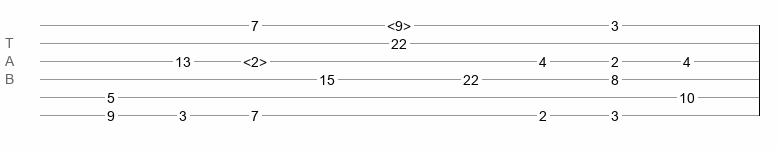10: (679, 90, 695, 100)
13: (175, 54, 191, 64)
15: (319, 72, 335, 82)
2: (539, 108, 547, 118), (611, 54, 619, 64)
22: (391, 36, 407, 46), (463, 72, 479, 82)
3: (179, 108, 187, 118), (611, 18, 619, 28), (611, 108, 619, 118)
4: (539, 54, 547, 64), (683, 54, 691, 64)
5: (107, 90, 115, 100)
7: (251, 18, 259, 28), (251, 108, 259, 118)
8: (611, 72, 619, 82)
9: (107, 108, 115, 118)
harmonic: (243, 54, 267, 64), (387, 18, 411, 28)
